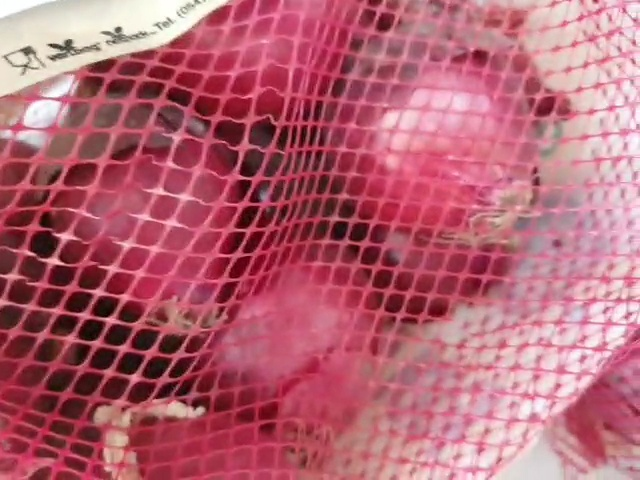red_onion: (1, 1, 620, 476)
